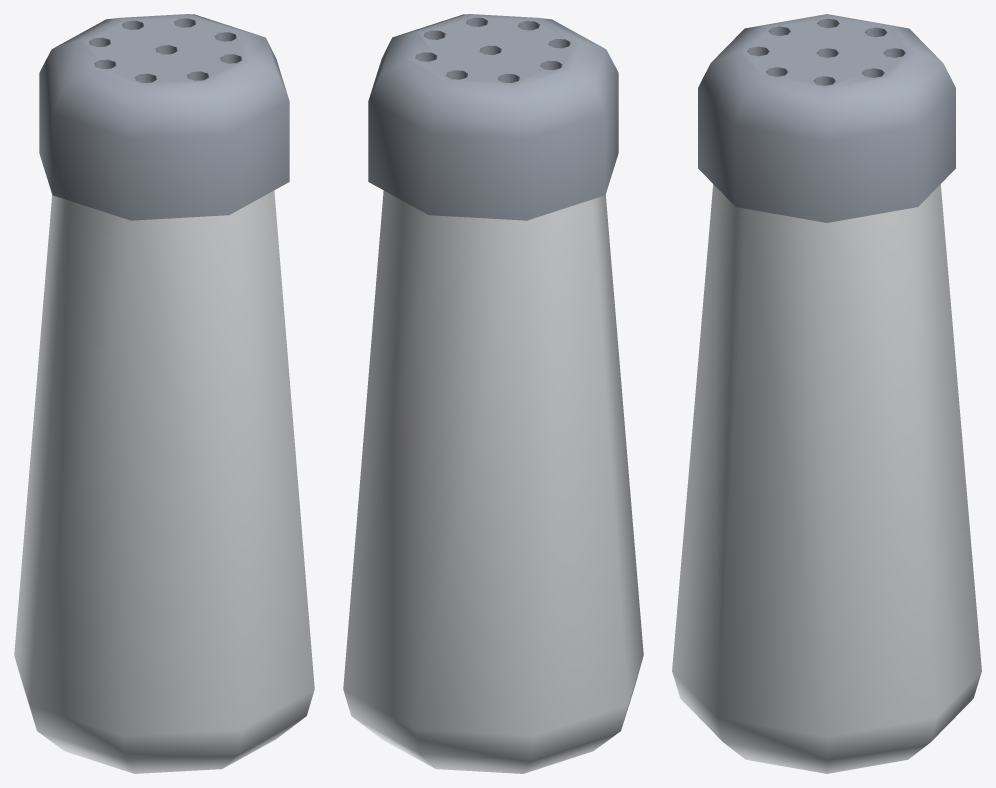
File: cooking_assets_salt_shaker.glb
3 views of the same model, side by side, from view 1: azimuth 30°, elevation 25°; view 2: azimuth 150°, elevation 25°; view 3: azimuth 270°, elevation 25° (orthographic).
Parts seen in each view (by area): view 1: utensil_shaker_Cylinder.150; view 2: utensil_shaker_Cylinder.150; view 3: utensil_shaker_Cylinder.150.
Boxes of the visible parts, x1,y1,x2,y2 form: utensil_shaker_Cylinder.150: (14, 14, 314, 773); utensil_shaker_Cylinder.150: (343, 14, 643, 773); utensil_shaker_Cylinder.150: (672, 14, 981, 773).
Size of the model in its own units: 1.16 by 2.78 by 1.16.
Materials: 2 (2 with a texture image).
